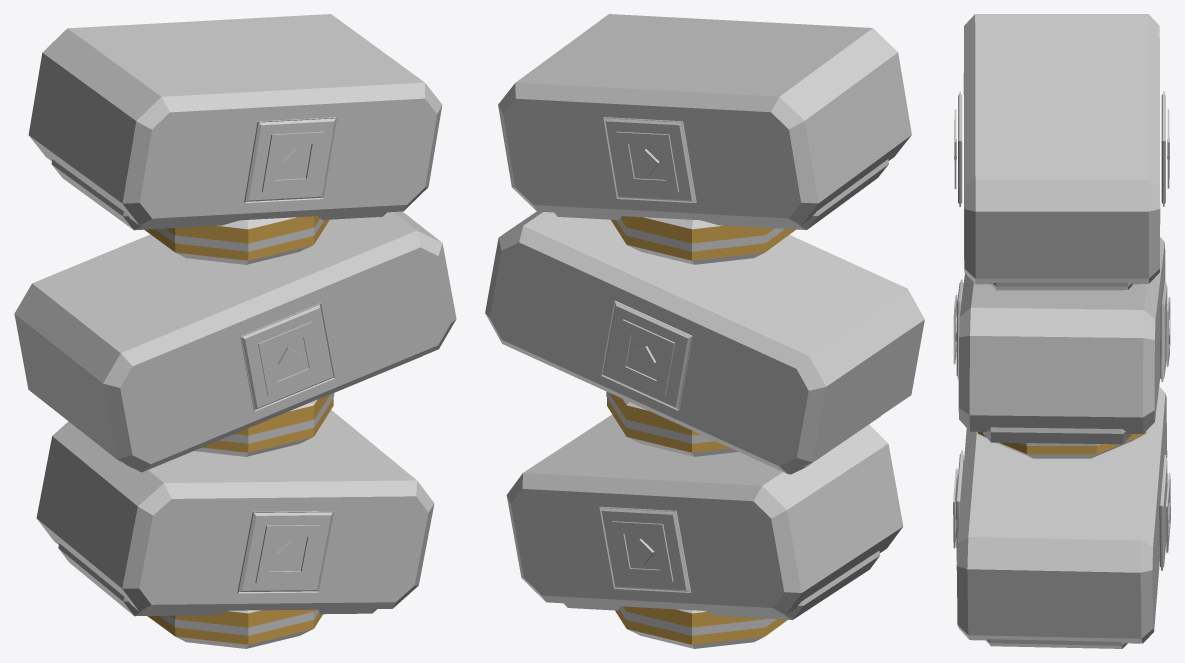
File: wand_motion_25.obj
3 views of the same model, side by side, from view 1: azimuth 30°, elevation 25°; view 2: azimuth 150°, elevation 25°; view 3: azimuth 270°, elevation 25° (orthographic). The views are drawn at different scales.
Parts seen in each view (by area): view 1: chamfered_seal_tablet_1, chamfered_seal_tablet_2, chamfered_seal_tablet_0, tablet_spacer_2, inset_rune_socket_1, inset_rune_socket_3, inset_rune_socket_5, tablet_spacer_0, tablet_spacer_1, seal_shadow_base_2, seal_shadow_base_0, tablet_spacer_dark_seam_2 (+2 smaller); view 2: chamfered_seal_tablet_1, chamfered_seal_tablet_2, chamfered_seal_tablet_0, tablet_spacer_2, inset_rune_socket_4, inset_rune_socket_2, inset_rune_socket_0, tablet_spacer_0, tablet_spacer_1, seal_shadow_base_0, seal_shadow_base_2, tablet_spacer_dark_seam_2 (+2 smaller); view 3: chamfered_seal_tablet_2, chamfered_seal_tablet_0, chamfered_seal_tablet_1, seal_shadow_base_1, tablet_spacer_1, seal_shadow_base_2, seal_shadow_base_0, inset_rune_socket_0, inset_rune_socket_2, inset_rune_socket_4, inset_rune_socket_5, inset_rune_socket_1.
Boxes of the visible parts, x1=… form: chamfered_seal_tablet_1: x1=14, y1=211, x2=456, y2=471; chamfered_seal_tablet_2: x1=28, y1=14, x2=442, y2=225; chamfered_seal_tablet_0: x1=36, y1=410, x2=434, y2=611; tablet_spacer_2: x1=144, y1=216, x2=329, y2=264; inset_rune_socket_1: x1=237, y1=511, x2=333, y2=593; inset_rune_socket_3: x1=240, y1=303, x2=334, y2=411; inset_rune_socket_5: x1=244, y1=117, x2=336, y2=203; tablet_spacer_0: x1=147, y1=609, x2=322, y2=648; tablet_spacer_1: x1=194, y1=394, x2=333, y2=456; seal_shadow_base_2: x1=51, y1=159, x2=386, y2=230; seal_shadow_base_0: x1=58, y1=543, x2=376, y2=616; tablet_spacer_dark_seam_2: x1=155, y1=218, x2=323, y2=251; chamfered_seal_tablet_1: x1=485, y1=211, x2=924, y2=473; chamfered_seal_tablet_2: x1=498, y1=14, x2=911, y2=225; chamfered_seal_tablet_0: x1=506, y1=414, x2=903, y2=615; tablet_spacer_2: x1=611, y1=216, x2=795, y2=264; inset_rune_socket_4: x1=603, y1=117, x2=696, y2=202; inset_rune_socket_2: x1=601, y1=301, x2=692, y2=410; inset_rune_socket_0: x1=599, y1=506, x2=690, y2=592; tablet_spacer_0: x1=615, y1=606, x2=787, y2=648; tablet_spacer_1: x1=607, y1=393, x2=738, y2=456; seal_shadow_base_0: x1=563, y1=551, x2=880, y2=619; seal_shadow_base_2: x1=553, y1=159, x2=888, y2=229; tablet_spacer_dark_seam_2: x1=616, y1=218, x2=784, y2=251; chamfered_seal_tablet_2: x1=963, y1=14, x2=1160, y2=284; chamfered_seal_tablet_0: x1=956, y1=387, x2=1167, y2=643; chamfered_seal_tablet_1: x1=958, y1=237, x2=1165, y2=433; seal_shadow_base_1: x1=983, y1=427, x2=1131, y2=444; tablet_spacer_1: x1=977, y1=431, x2=1146, y2=458; seal_shadow_base_2: x1=991, y1=282, x2=1132, y2=290; seal_shadow_base_0: x1=986, y1=639, x2=1127, y2=648; inset_rune_socket_0: x1=1159, y1=455, x2=1167, y2=570; inset_rune_socket_2: x1=1160, y1=282, x2=1167, y2=381; inset_rune_socket_4: x1=1161, y1=91, x2=1165, y2=206; inset_rune_socket_5: x1=958, y1=91, x2=962, y2=206; inset_rune_socket_1: x1=956, y1=450, x2=963, y2=561.
Bounding box in the file's own units: 0.198 × 0.3126 × 0.1147.
